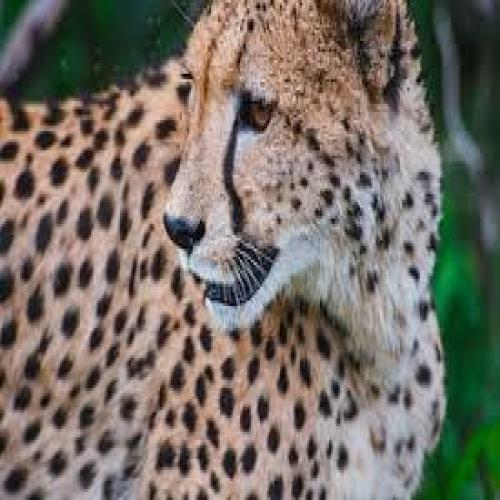cheetah-endangered: (0, 0, 445, 500)
